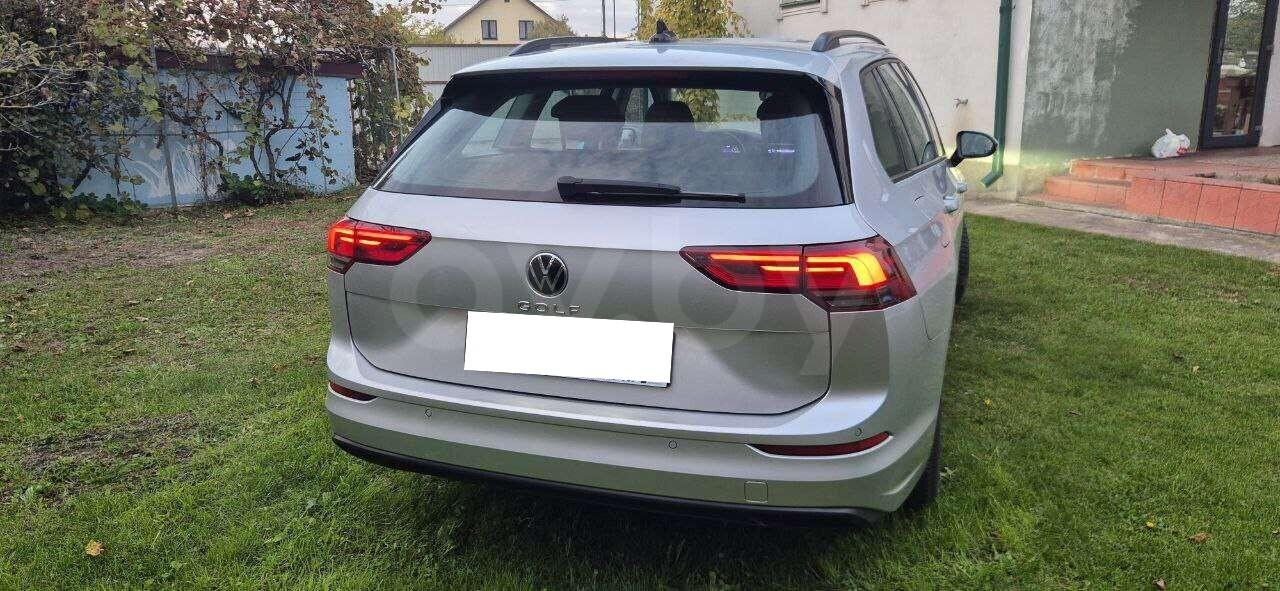Golf_2019: (313, 23, 986, 530)
